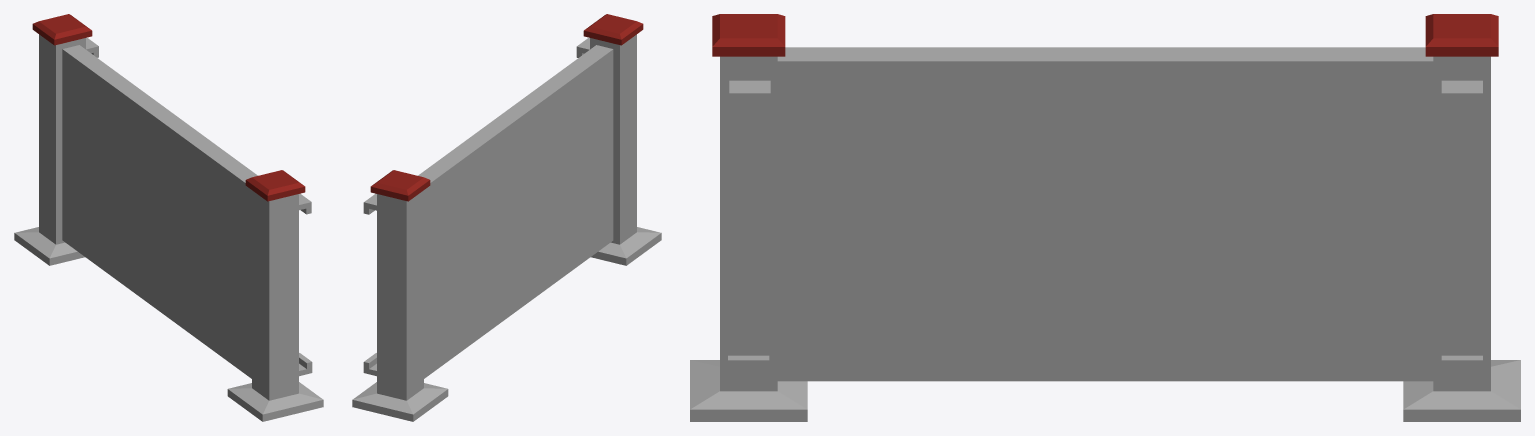
The model's file is Gate_SupportWall_01.fbx.
The picture shows the model from 3 angles, left to right: view 1: azimuth 30°, elevation 25°; view 2: azimuth 150°, elevation 25°; view 3: azimuth 270°, elevation 25°; orthographic projection. The views are drawn at different scales.
Visible parts, largest first — view 1: Gate_SupportWall_01; view 2: Gate_SupportWall_01; view 3: Gate_SupportWall_01.
Boxes of the visible parts, x1,y1,x2,y2 form: Gate_SupportWall_01: (14, 14, 323, 421); Gate_SupportWall_01: (352, 14, 661, 421); Gate_SupportWall_01: (690, 14, 1520, 421).
Bounding box in the file's own units: 0.4002 × 1.39 × 2.83.
